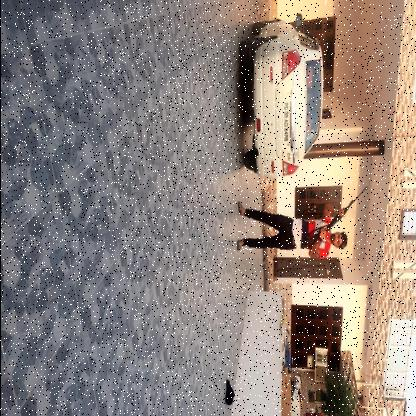rifle: (303, 184, 368, 250)
